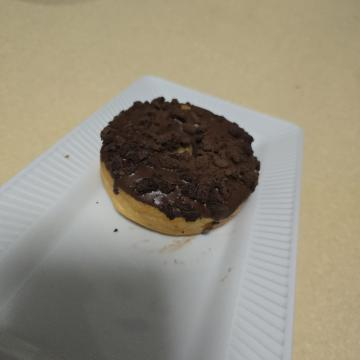doughnut: (86, 88, 252, 270)
